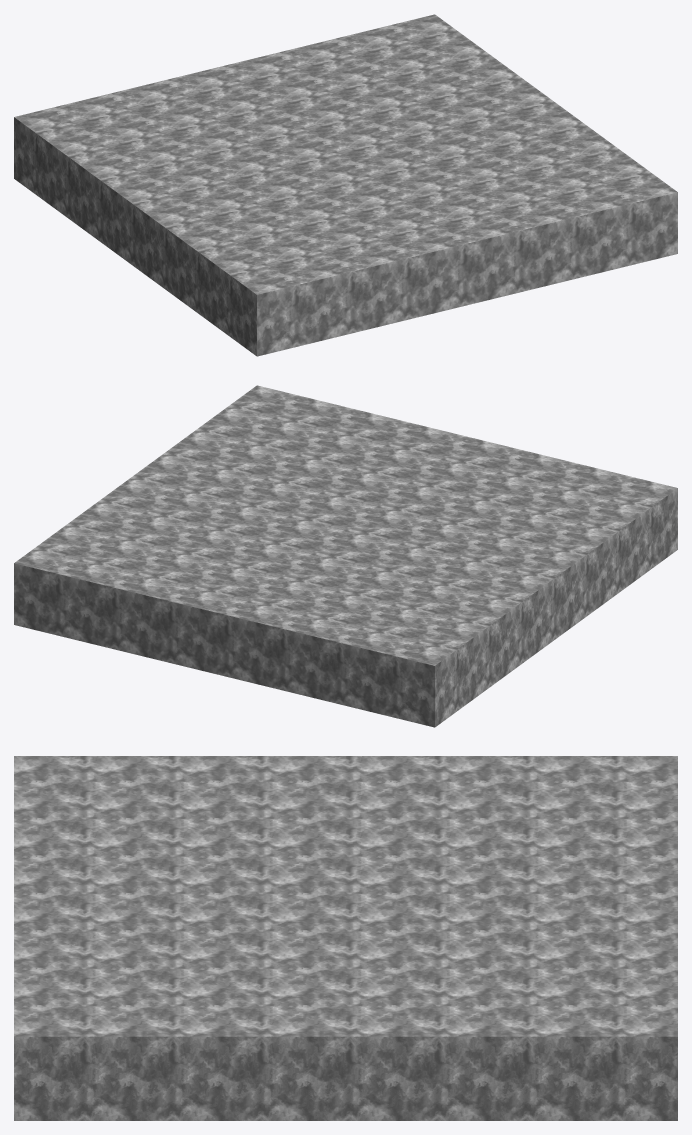
3 renders of one model, top to bottom at view 1: azimuth 30°, elevation 25°; view 2: azimuth 150°, elevation 25°; view 3: azimuth 270°, elevation 25°, orthographic. The views are drawn at different scales.
Parts seen in each view (by area): view 1: SM_floor_module; view 2: SM_floor_module; view 3: SM_floor_module.
Boxes of the visible parts, x1,y1,x2,y2 form: SM_floor_module: (14, 14, 677, 356); SM_floor_module: (14, 385, 677, 727); SM_floor_module: (14, 756, 677, 1120).
Bounding box in the file's own units: 3000 × 3000 × 420.
2 materials, 2 textured.
